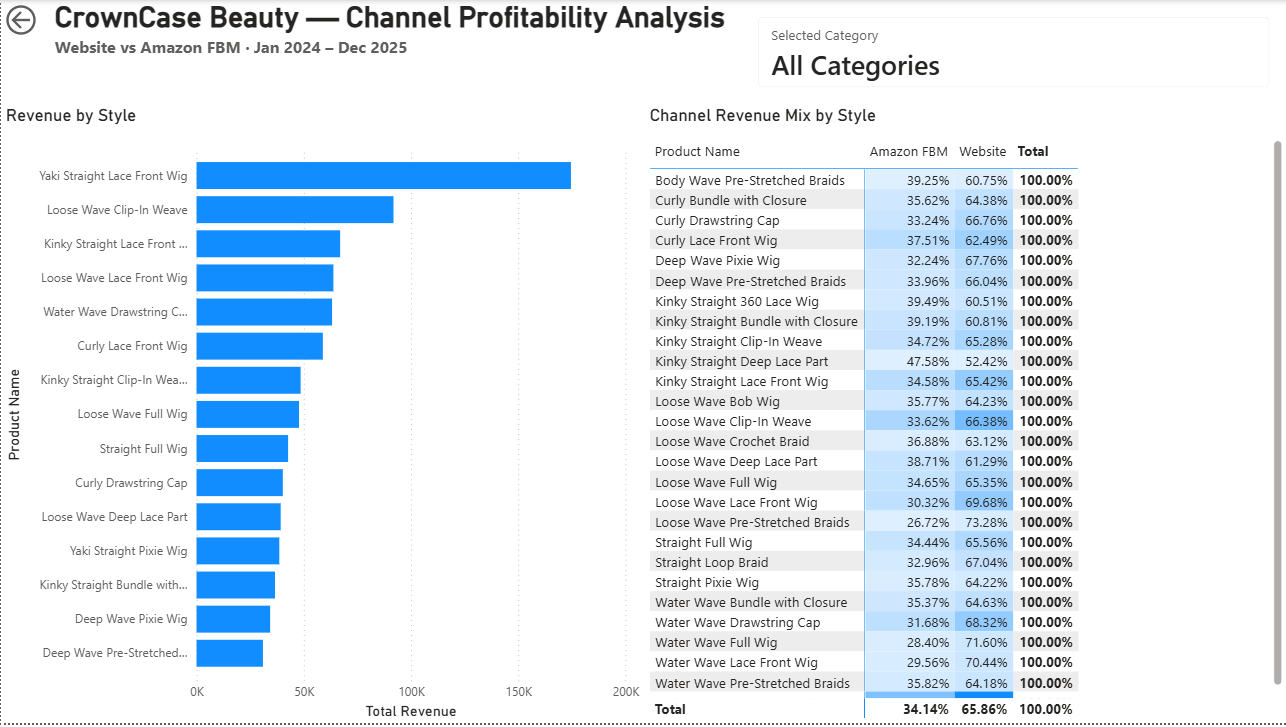

The page's visual inventory and layout, read from the dashboard file:
{"tool":"powerbi","page":{"name":"Product Deep Dive","canvas":[1280,720],"ordinal":2},"visuals":[{"type":"clusteredBarChart","title":"Revenue by Style","fields":{"Category":["Dim_Products.Product Name","Dim_Products.Color"],"Y":["_Measures.Total Revenue"]},"box":[0,104.5,640.6,615.8],"z":0},{"type":"pivotTable","title":"Channel Revenue Mix by Style","fields":{"Rows":["Dim_Products.Product Name"],"Columns":["Dim_Channels.Channel"],"Values":["_Measures.Total Revenue"]},"box":[640.6,104.5,639.4,615.8],"z":1000},{"type":"textbox","title":"CrownCase Beauty — Channel Profitability Analysis","box":[49.1,0,688.2,73.6],"z":2000},{"type":"actionButton","box":[0,0,48.5,39.8],"z":2001},{"type":"cardVisual","title":"Showing","fields":{"Data":["_Measures.Selected Category"]},"box":[736.4,0,543.6,104.5],"z":2002}]}

Visuals, with their boxes in screenshot pixels (x1, y1, x2, y2), scaled from the page's 1280x720 canvas onto the 1286x727 screenshot:
"Revenue by Style" clusteredBarChart: bbox(0, 106, 644, 726)
"Channel Revenue Mix by Style" pivotTable: bbox(644, 106, 1285, 726)
"CrownCase Beauty — Channel Profitability Analysis" textbox: bbox(49, 0, 741, 74)
actionButton: bbox(0, 0, 49, 40)
"Showing" cardVisual: bbox(740, 0, 1285, 106)
